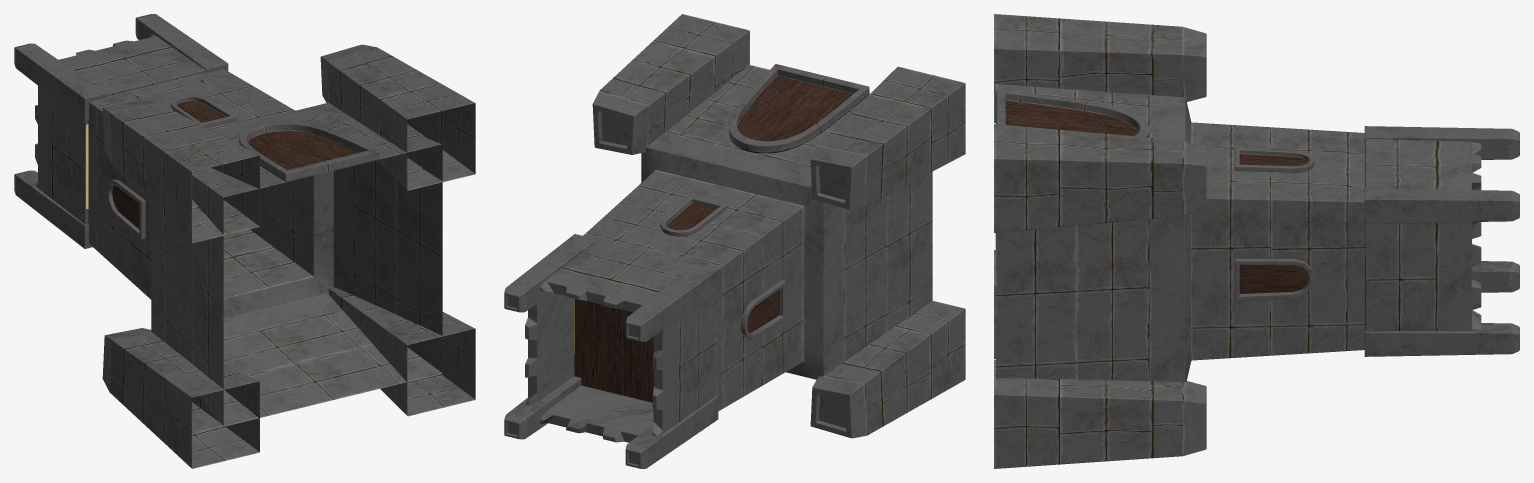
The model's file is 1. tower.fbx.
3 views of the same model, side by side, from view 1: azimuth 30°, elevation 25°; view 2: azimuth 150°, elevation 25°; view 3: azimuth 270°, elevation 25° (orthographic). The views are drawn at different scales.
Visible parts, largest first — view 1: Cube, Cube.001, Cube.002, Cube.003, Cube.004; view 2: Cube, Cube.001, Cube.002, Cube.003, Cube.004; view 3: Cube, Cube.001, Cube.002, Cube.004, Cube.003.
Boxes of the visible parts, x1,y1,x2,y2 form: Cube: [35, 34, 442, 426]; Cube.001: [102, 44, 475, 468]; Cube.002: [14, 14, 228, 248]; Cube.003: [239, 121, 379, 181]; Cube.004: [106, 95, 236, 239]; Cube: [525, 65, 932, 442]; Cube.001: [592, 14, 965, 438]; Cube.002: [504, 234, 718, 468]; Cube.003: [729, 64, 869, 153]; Cube.004: [660, 196, 785, 338]; Cube: [995, 84, 1481, 382]; Cube.001: [994, 14, 1206, 468]; Cube.002: [1364, 126, 1519, 356]; Cube.004: [1234, 147, 1314, 300]; Cube.003: [995, 89, 1150, 137].
Size of the model in its own units: 436 by 436 by 668.
